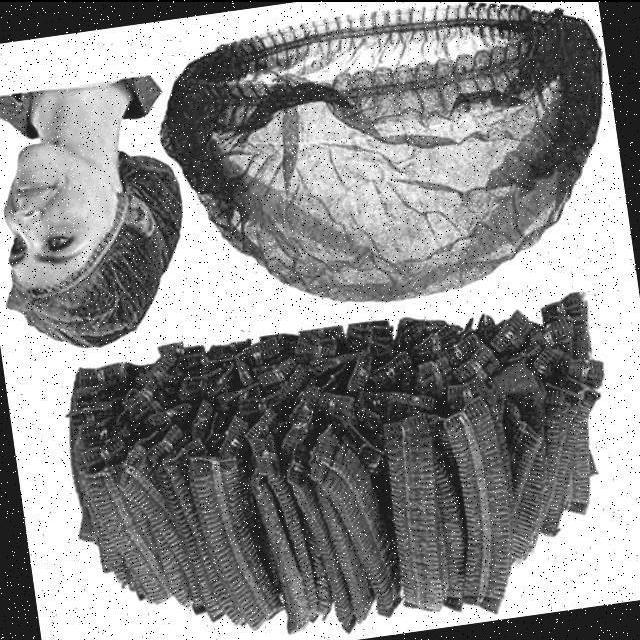gloves: (197, 7, 640, 304), (0, 254, 161, 336)
no_hairnet: (12, 162, 68, 246)
